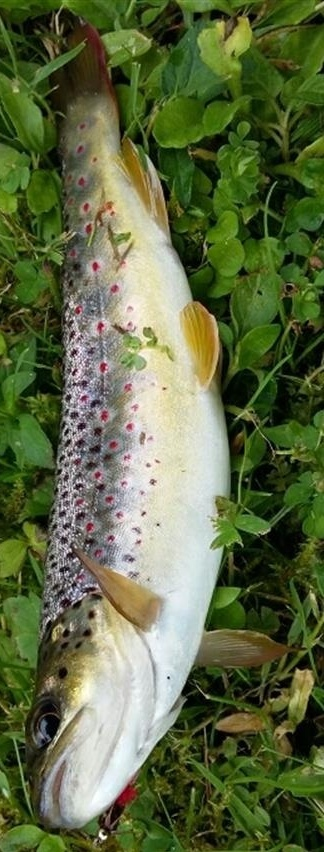Salmo trutta subsp. fario: (20, 11, 304, 832)
